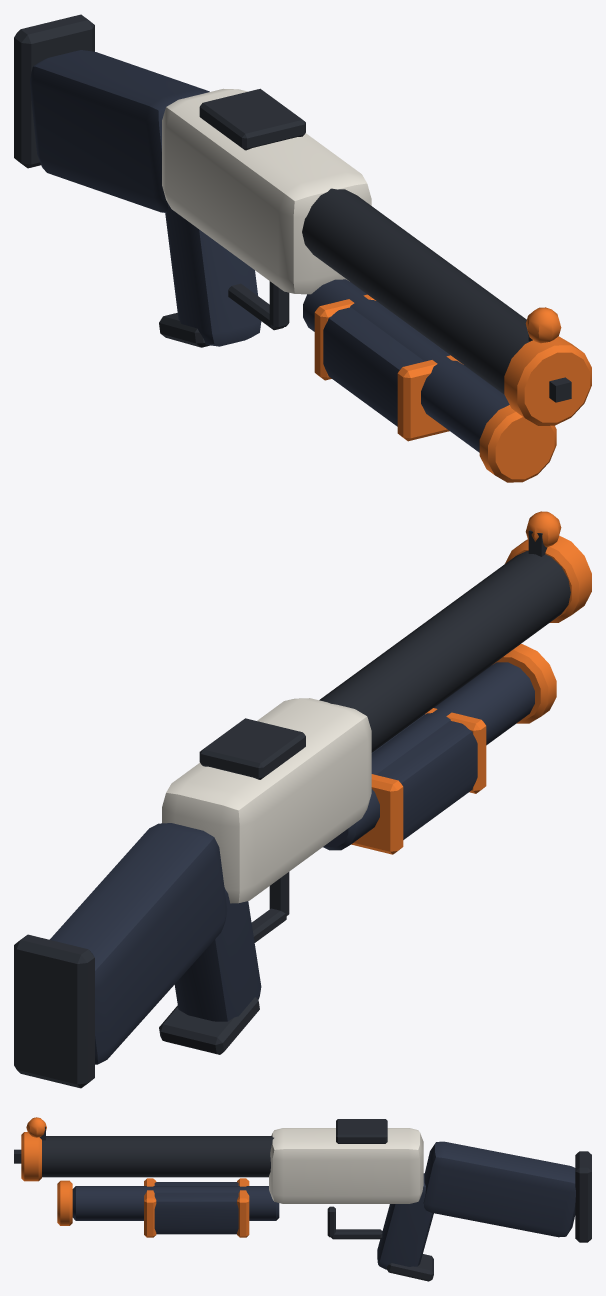
File: wpn_shotgun.fbx
3 renders of one model, top to bottom at view 1: azimuth 30°, elevation 25°; view 2: azimuth 150°, elevation 25°; view 3: azimuth 270°, elevation 25°, orthographic. The views are drawn at different scales.
Parts seen in each view (by area): view 1: Body; view 2: Body; view 3: Body.
Boxes of the visible parts, left/top/right/bottom form: Body: left=14, top=14, right=591, bottom=482; Body: left=14, top=511, right=591, bottom=1088; Body: left=21, top=1117, right=591, bottom=1281.
Bounding box in the file's own units: 0.56 × 1.67 × 5.6.
Materials: 2 (1 with a texture image).
